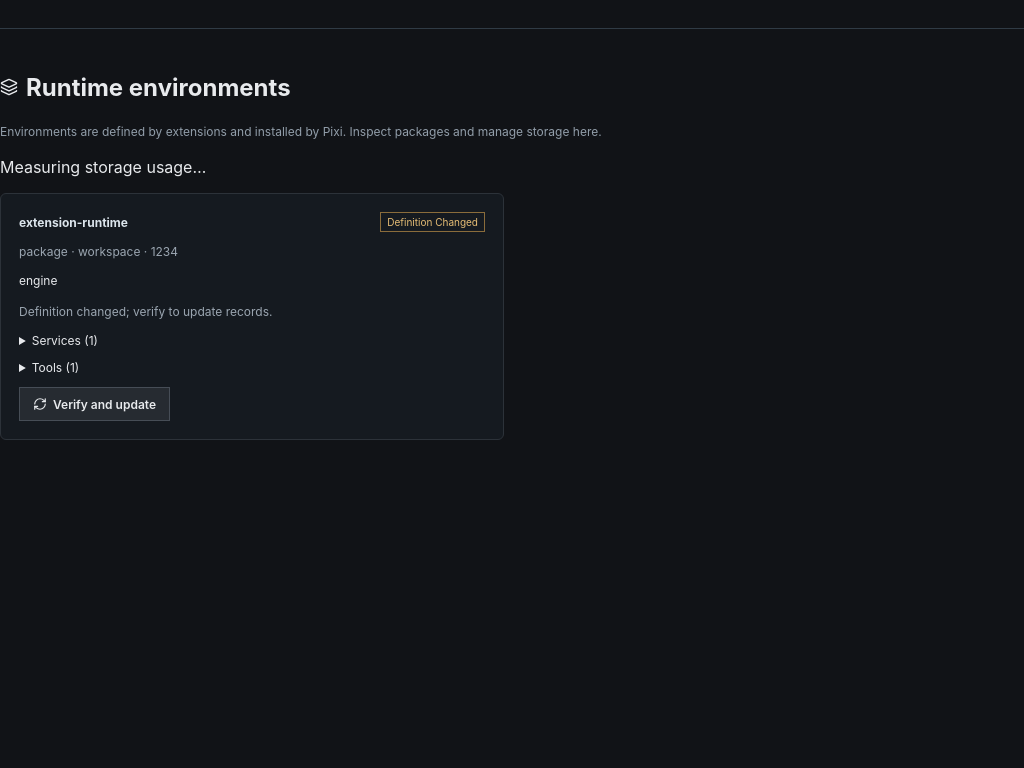
shows installed package versions and allocated storage
Click the button "extension-runtime". click: (73, 222)
box: [19,214,128,230]
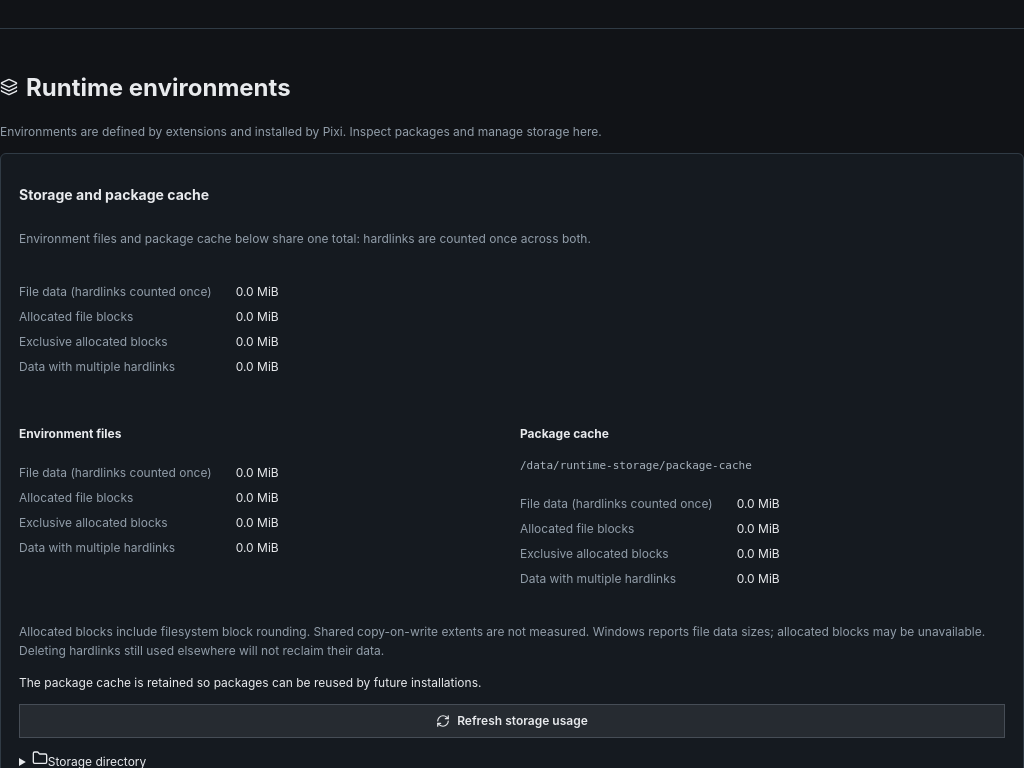
expect the 1st text "Allocated file blocks" is shown: met, box [19,309,133,324]
